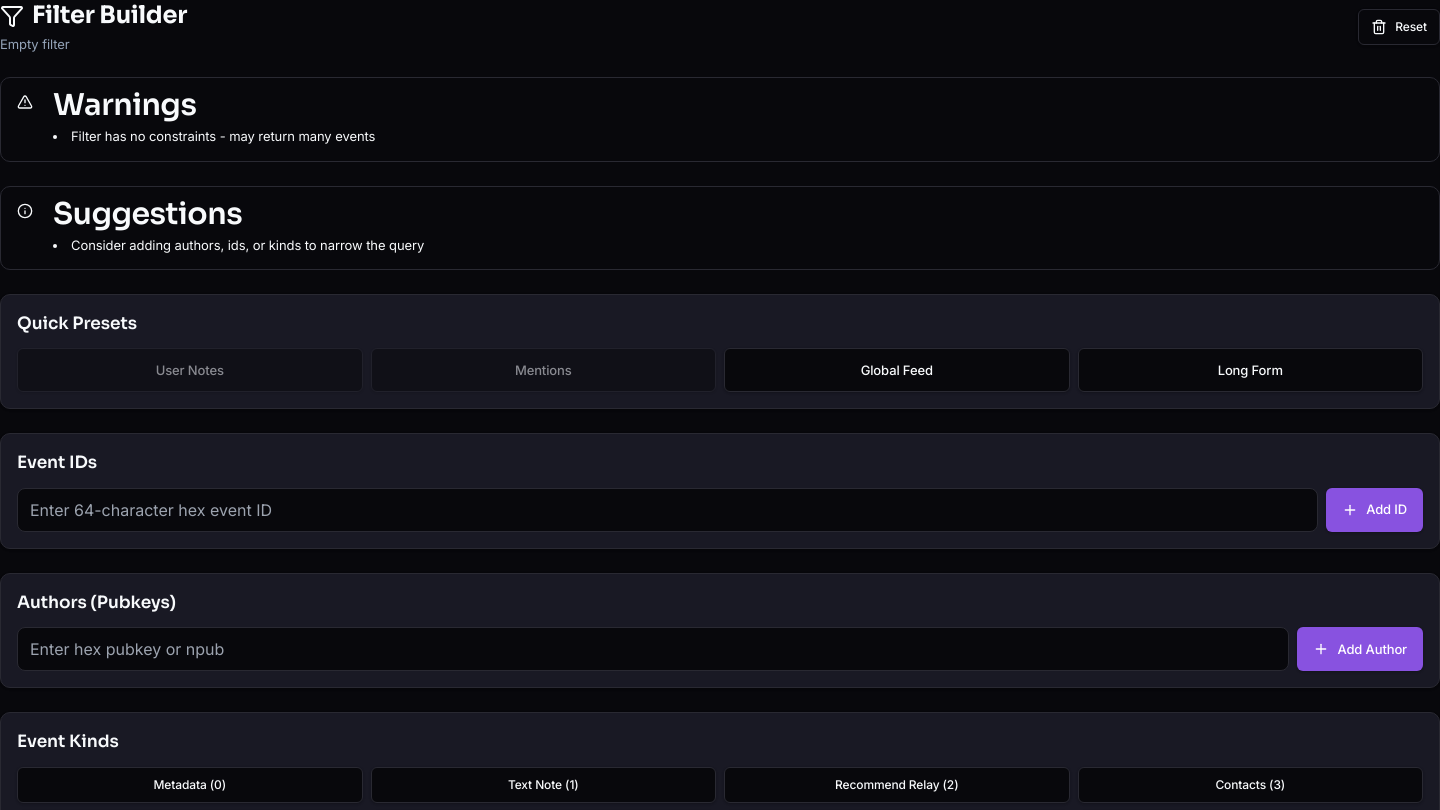
FilterBuilder › Import/Export › exports filter as JSON in preview
The width and height of the screenshot is (1440, 810).
Step 1. Click the button "Global Feed" → (897,370), box x1=724 y1=348 x2=1070 y2=392
(page scrolled)
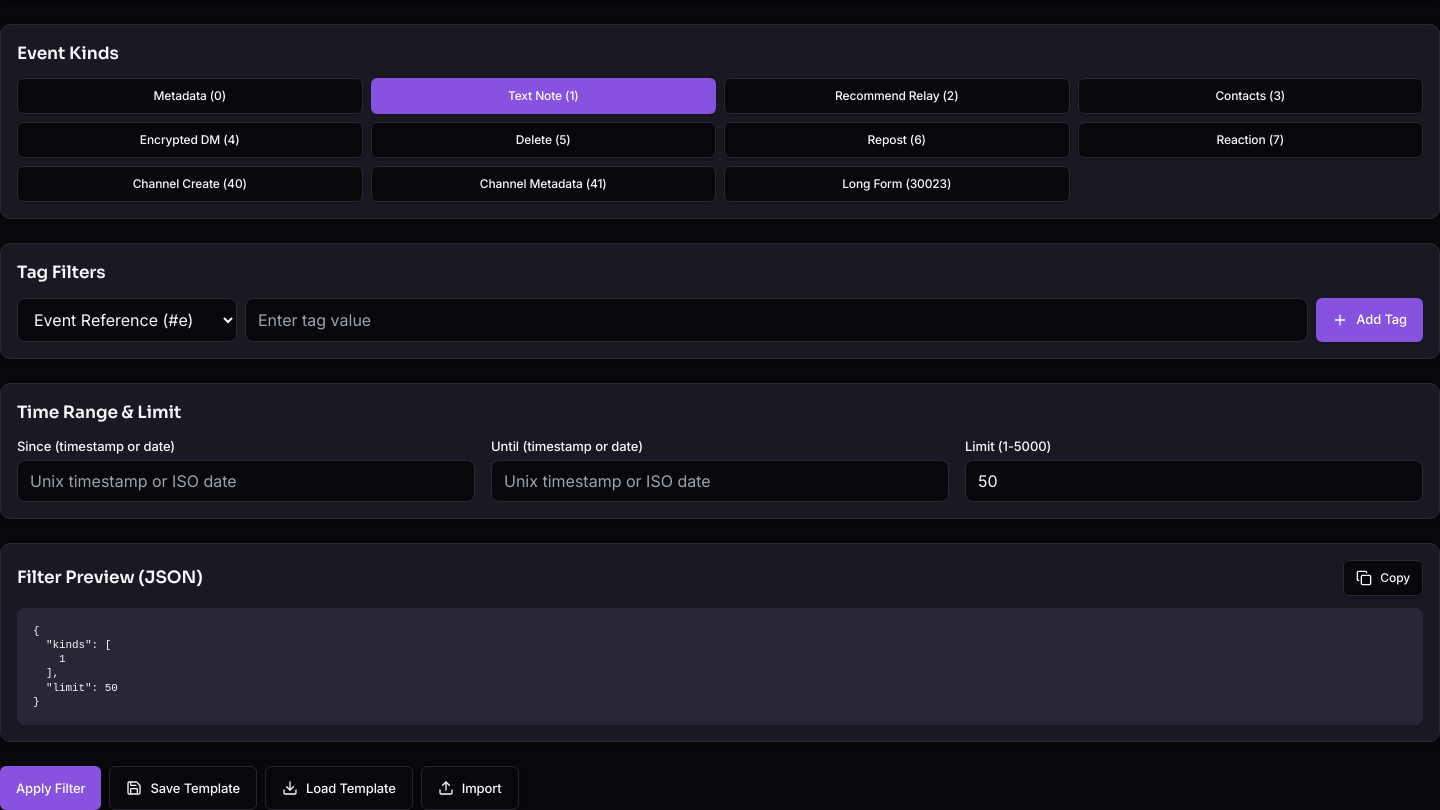
Expected: the text "{ \"kinds\": [ 1 ], \"limit\": 50 }" is shown, x1=17 y1=608 x2=1423 y2=725
Expected: the text "{ \"kinds\": [ 1 ], \"limit\": 50 }" shows "\"kinds\"", x1=33 y1=625 x2=118 y2=708
